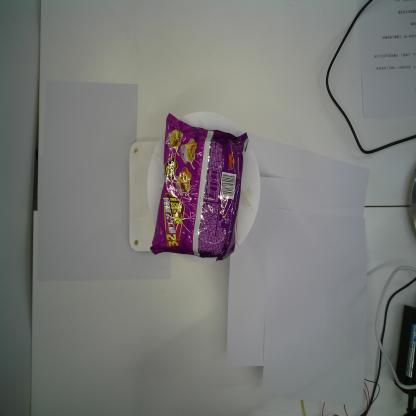Instant Noodles: (150, 111, 249, 263)
